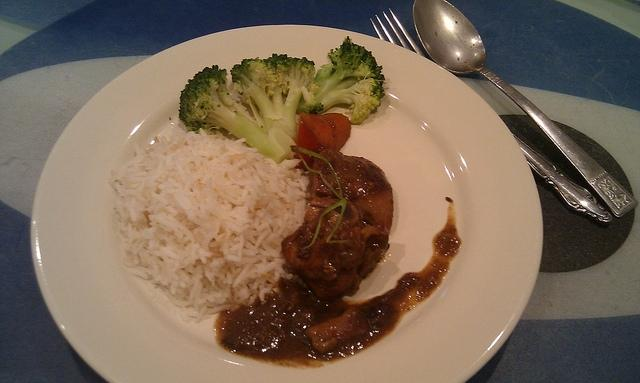broccoli: (178, 65, 296, 164), (296, 36, 386, 124), (230, 52, 323, 137)
carrot: (296, 113, 338, 172)
